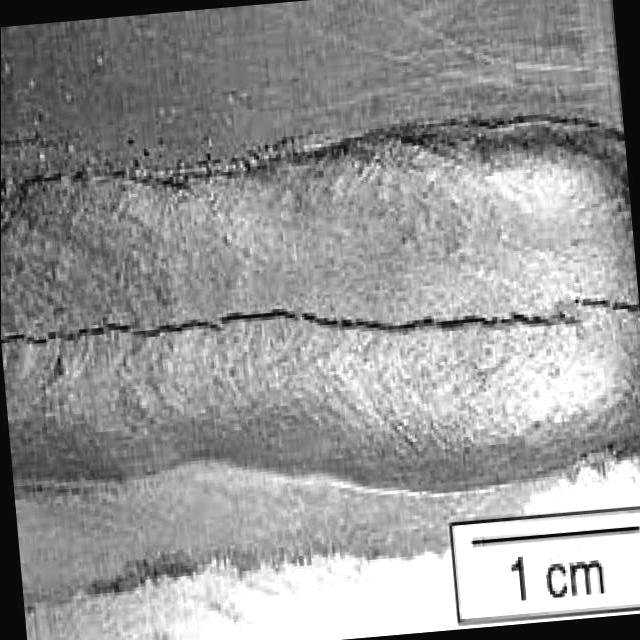defect: (1, 288, 638, 353)
